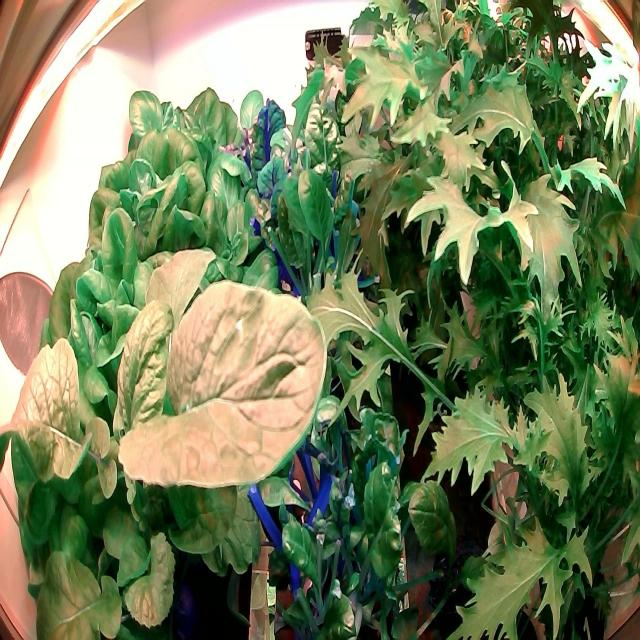Ready: (11, 306, 172, 640), (86, 84, 241, 326), (45, 174, 177, 416)
young: (189, 162, 280, 303), (227, 84, 285, 170)
